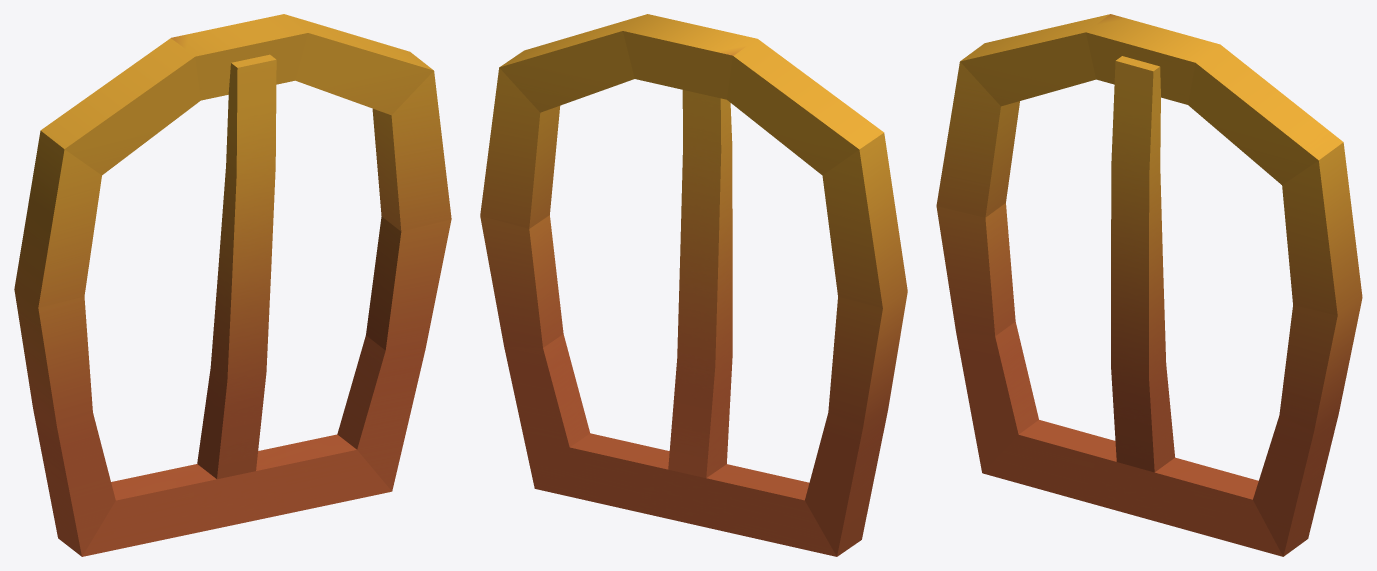
The model's file is Belt01.fbx.
3 views of the same model, side by side, from view 1: azimuth 30°, elevation 25°; view 2: azimuth 150°, elevation 25°; view 3: azimuth 330°, elevation 25° (orthographic).
Parts seen in each view (by area): view 1: Belt01; view 2: Belt01; view 3: Belt01.
Part boxes in pixels (box(x1,y1,x2,y2)): Belt01: box(14, 14, 451, 556); Belt01: box(480, 14, 907, 556); Belt01: box(936, 14, 1362, 556).
Bounding box in the file's own units: 20.39 × 23.03 × 3.16.
Materials: 1 (1 with a texture image).
